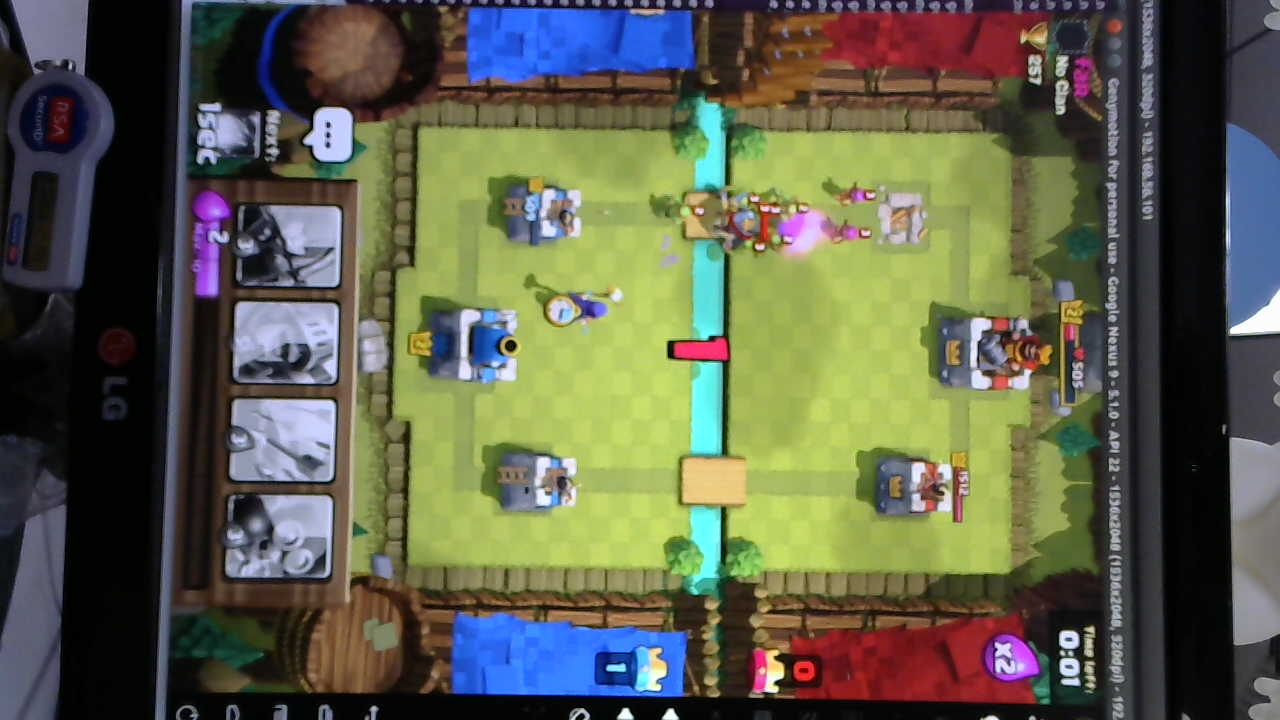archers: (830, 182, 870, 244)
arena: (493, 445, 580, 516), (503, 182, 588, 247)
darena: (874, 191, 926, 246)
earena: (874, 454, 952, 520)
eking: (939, 310, 1046, 398)
king: (428, 299, 524, 390)
knight: (713, 199, 761, 250)
speargoblin: (660, 196, 694, 224)
speargoblins: (754, 189, 794, 260)
witch: (556, 288, 625, 323)
